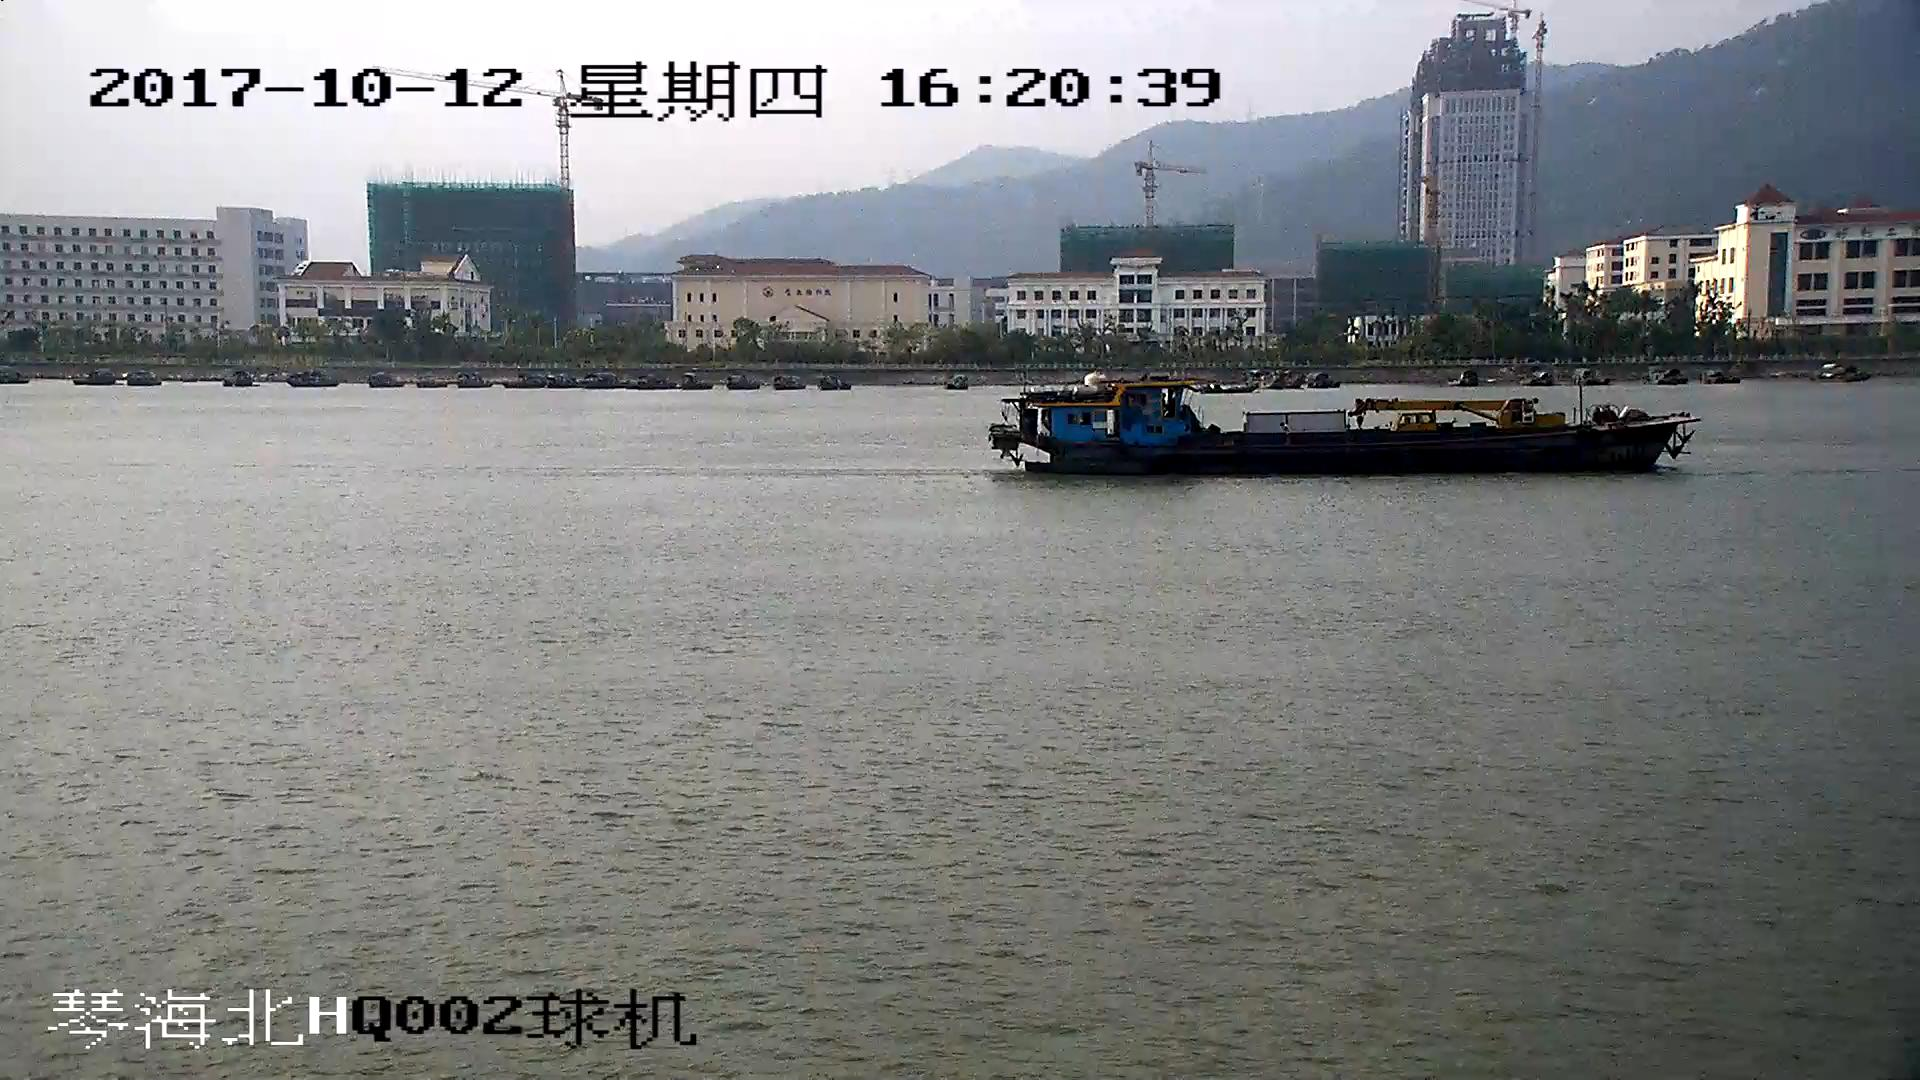fishing boat: (986, 381, 1697, 484)
